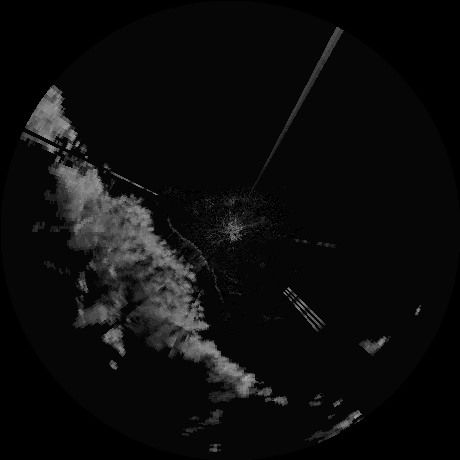frontgust: (197, 253, 222, 296), (168, 220, 196, 250)
